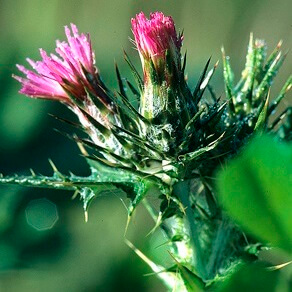thistle: (18, 23, 135, 172), (123, 10, 215, 163)
